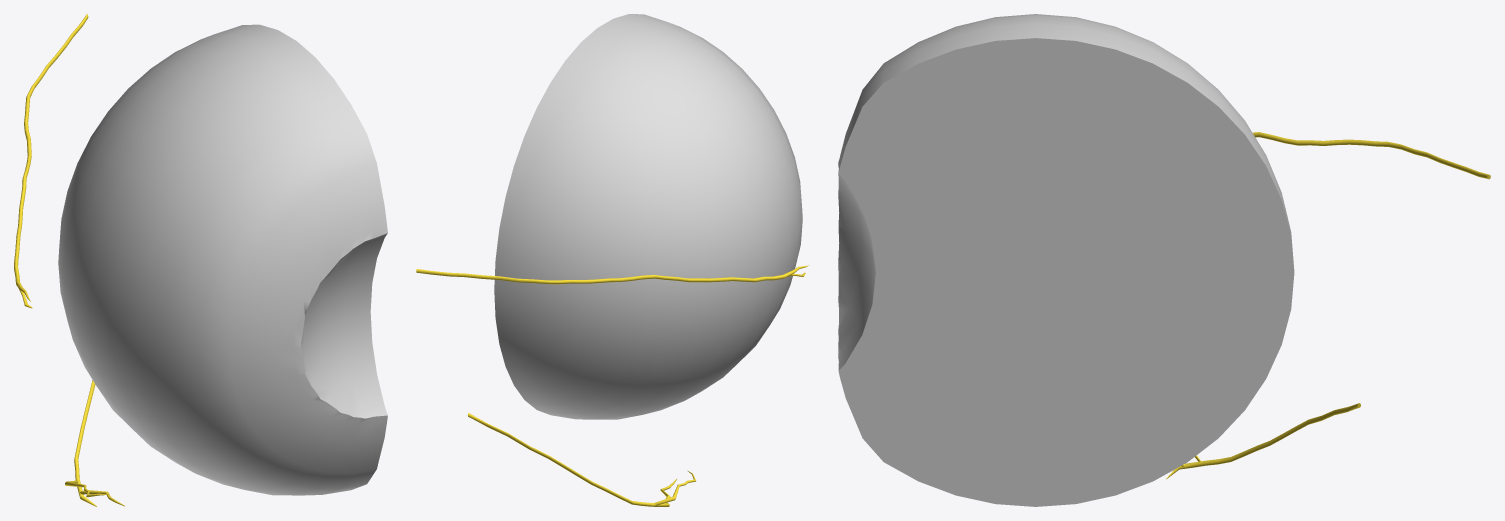
File: HalfMissingElements.FBX
3 views of the same model, side by side, from view 1: azimuth 30°, elevation 25°; view 2: azimuth 150°, elevation 25°; view 3: azimuth 270°, elevation 25° (orthographic). The views are drawn at different scales.
Parts seen in each view (by area): view 1: bCorpusVitreum, nAbducens, nOculomotorius; view 2: bCorpusVitreum, nAbducens, nOculomotorius; view 3: bCorpusVitreum, nAbducens, nOculomotorius.
Boxes of the visible parts, box(x1,y1,x2,y2) form: bCorpusVitreum: box(58, 24, 387, 495); nAbducens: box(14, 14, 88, 308); nOculomotorius: box(65, 380, 124, 506); bCorpusVitreum: box(494, 14, 802, 419); nAbducens: box(416, 265, 808, 284); nOculomotorius: box(467, 413, 695, 506); bCorpusVitreum: box(838, 14, 1294, 506); nAbducens: box(1253, 132, 1490, 179); nOculomotorius: box(1166, 403, 1360, 479).
Size of the model in its own units: 0.4874 by 0.8653 by 0.9933.
